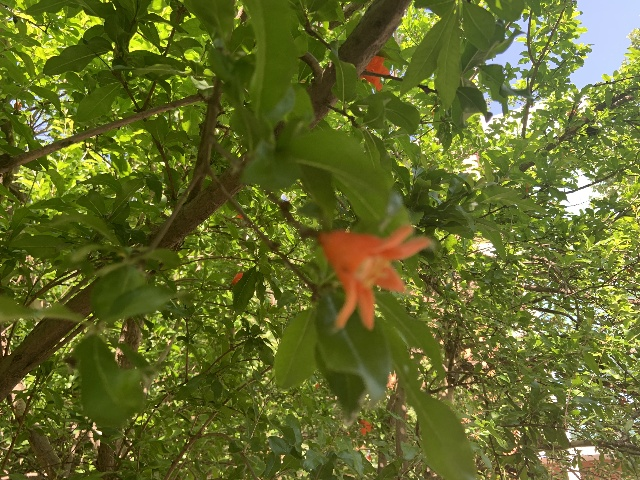flower: (318, 225, 428, 330), (360, 55, 389, 91), (359, 419, 372, 434), (231, 272, 243, 285)
